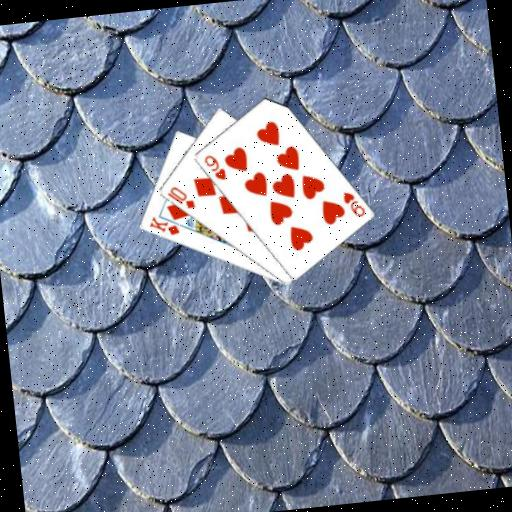10D: (164, 182, 197, 213)
9H: (200, 150, 228, 184), (339, 187, 367, 220)
KD: (146, 212, 182, 240)
